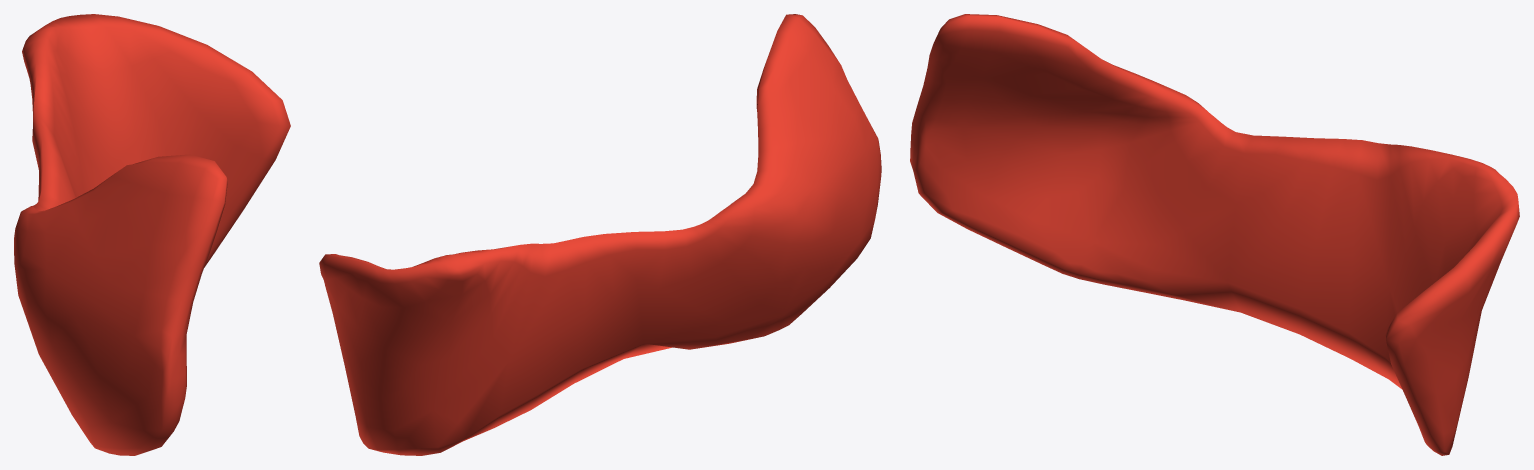
Rendered from Adductor_hallucis_transverse_head_4th_metatarsal_001_right.glb.
3 renders of one model, left to right at view 1: azimuth 30°, elevation 25°; view 2: azimuth 150°, elevation 25°; view 3: azimuth 270°, elevation 25°, orthographic. The views are drawn at different scales.
Visible parts, largest first — view 1: Transverse_head_of_adductor_hallucis_on_4th_metatarsal_head_; view 2: Transverse_head_of_adductor_hallucis_on_4th_metatarsal_head_; view 3: Transverse_head_of_adductor_hallucis_on_4th_metatarsal_head_.
Boxes of the visible parts, box(x1,y1,x2,y2) form: Transverse_head_of_adductor_hallucis_on_4th_metatarsal_head_: box(14, 14, 290, 455); Transverse_head_of_adductor_hallucis_on_4th_metatarsal_head_: box(319, 14, 881, 455); Transverse_head_of_adductor_hallucis_on_4th_metatarsal_head_: box(910, 14, 1519, 455).
Size of the model in its own units: 0.00715 by 0.00617 by 0.01.
